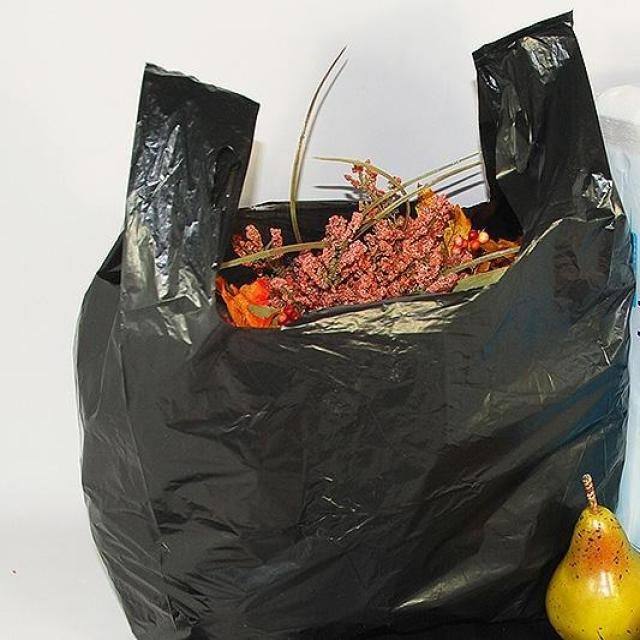Wet: (542, 469, 638, 636)
